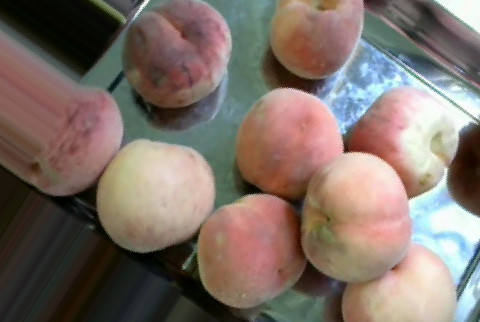Peach: (300, 151, 413, 284), (98, 138, 215, 251), (195, 193, 307, 310), (234, 85, 343, 202), (348, 85, 460, 198), (123, 0, 229, 108), (337, 243, 454, 320), (264, 0, 365, 78)
